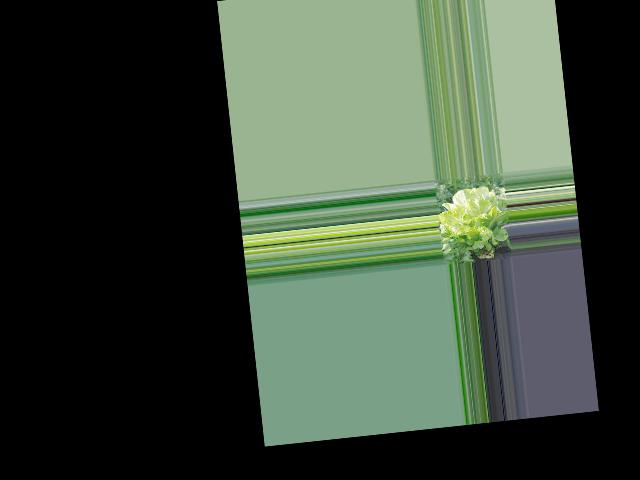lettuce: (442, 185, 509, 250)
